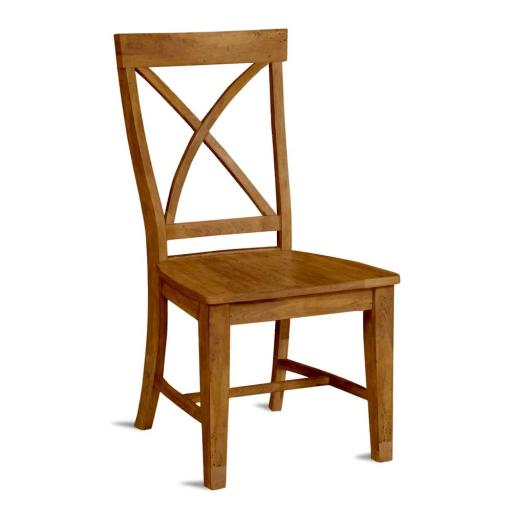chair: (100, 30, 429, 488)
